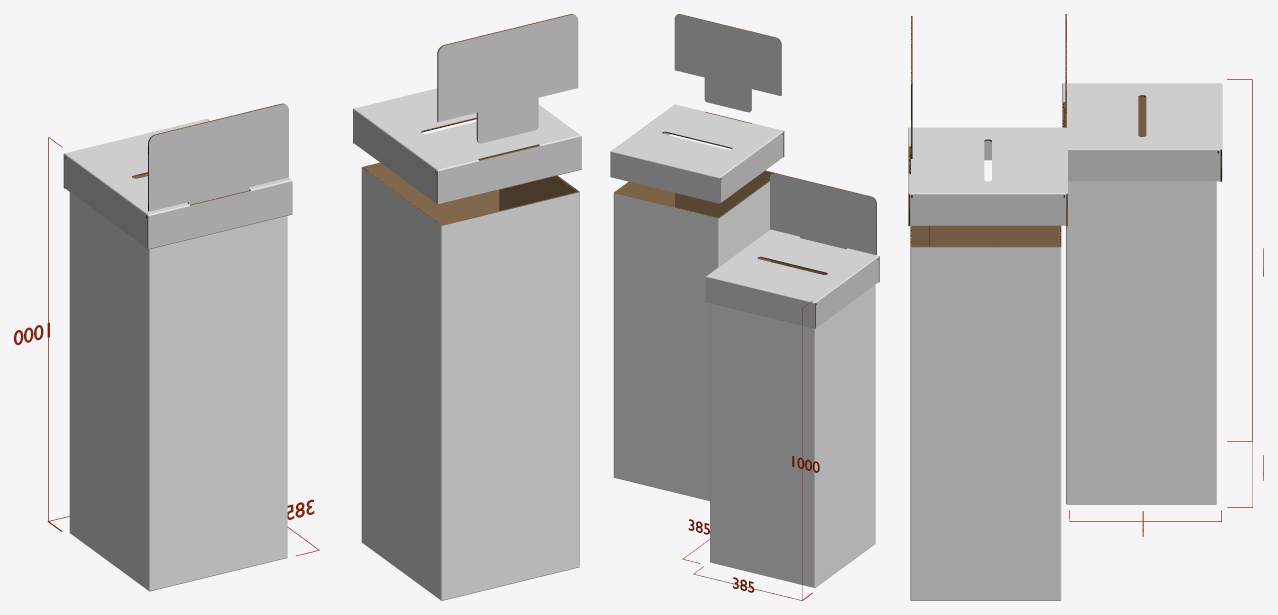
File: 3D SANIDAD.gltf
The picture shows the model from 3 angles, left to right: view 1: azimuth 30°, elevation 25°; view 2: azimuth 150°, elevation 25°; view 3: azimuth 270°, elevation 25°; orthographic projection. The views are drawn at different scales.
Parts seen in each view (by area): view 1: TQ_ARD-node.004, TQ_ARD-node, TQ_ARD-node.005, TQ_ARD-node.006, TQ_ARD-node.001, TQ_ARD-node.003; view 2: TQ_ARD-node, TQ_ARD-node.004, TQ_ARD-node.005, TQ_ARD-node.001, TQ_ARD-node.006, TQ_ARD-node.003; view 3: TQ_ARD-node.004, TQ_ARD-node, TQ_ARD-node.005, TQ_ARD-node.001.
Part boxes in pixels (<box>): TQ_ARD-node.004: <box>361,162,579,600</box>; TQ_ARD-node: <box>69,174,287,591</box>; TQ_ARD-node.005: <box>353,88,581,204</box>; TQ_ARD-node.006: <box>437,14,578,143</box>; TQ_ARD-node.001: <box>63,118,292,249</box>; TQ_ARD-node.003: <box>148,103,288,211</box>; TQ_ARD-node: <box>710,258,875,587</box>; TQ_ARD-node.004: <box>613,170,777,500</box>; TQ_ARD-node.005: <box>610,104,784,203</box>; TQ_ARD-node.001: <box>705,229,879,328</box>; TQ_ARD-node.006: <box>674,14,781,112</box>; TQ_ARD-node.003: <box>770,173,876,254</box>; TQ_ARD-node.004: <box>910,225,1061,600</box>; TQ_ARD-node: <box>1066,96,1216,504</box>; TQ_ARD-node.005: <box>908,127,1067,226</box>; TQ_ARD-node.001: <box>1062,83,1222,181</box>.
Size of the model in its own units: 1.06 by 1.49 by 0.913.
Materials: 10 (3 with a texture image).
